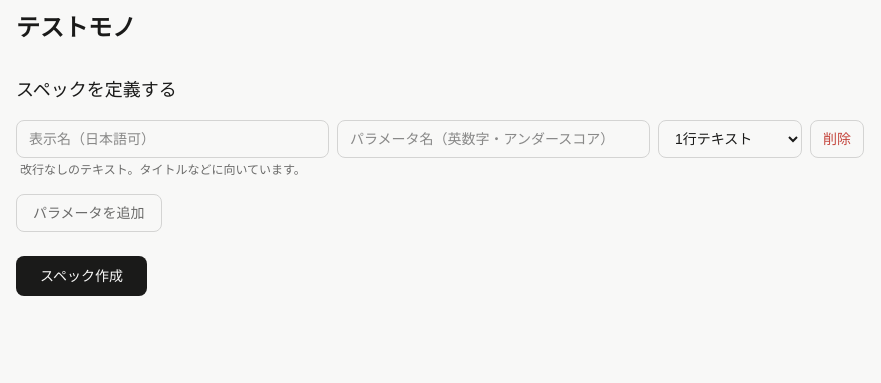
Test: スペック未定義時（parametersが空） › パラメータ削除ボタンを押すとフォーム行が消える
This screenshot has width=881, height=383.
# 追加してから削除
Click the button "パラメータを追加" at {"x": 89, "y": 213}, box left=16, top=194, right=162, bottom=232
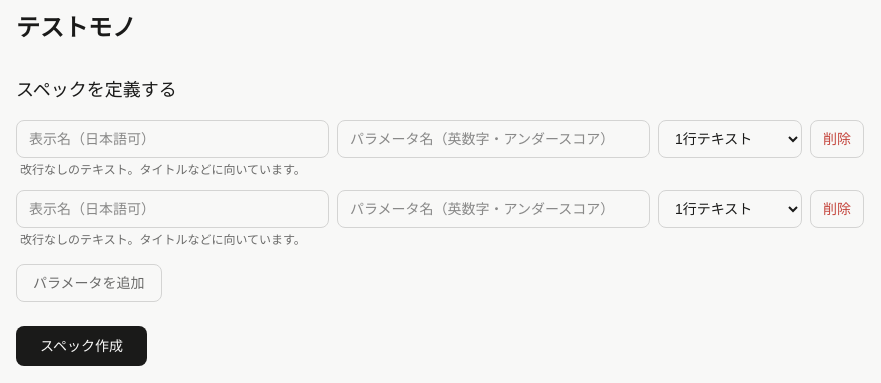
Click the 1st button "削除" at {"x": 837, "y": 139}, box left=810, top=120, right=864, bottom=158
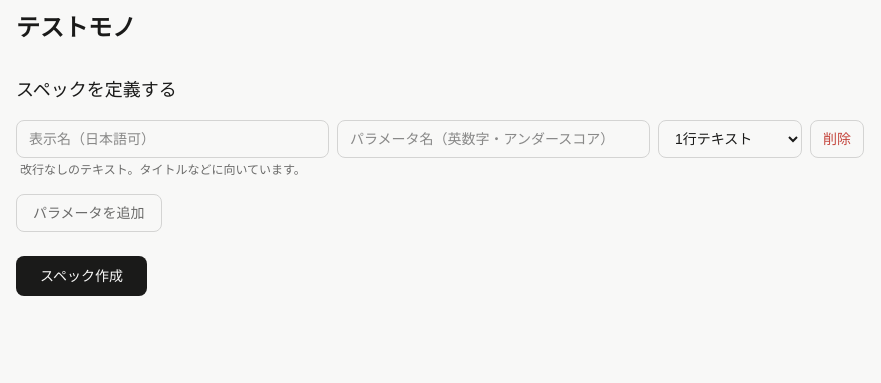
Expected: the number of dropdowns is 1, left=658, top=120, right=802, bottom=158
